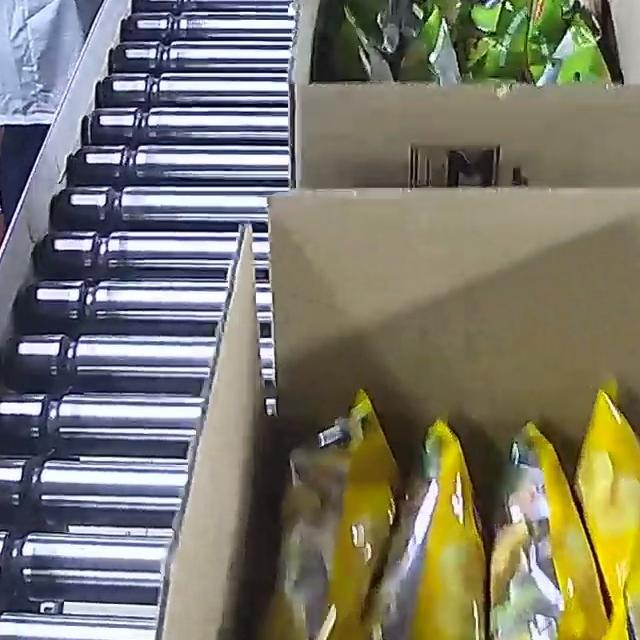salted: (265, 357, 640, 640)
yogurt: (332, 0, 640, 95)
